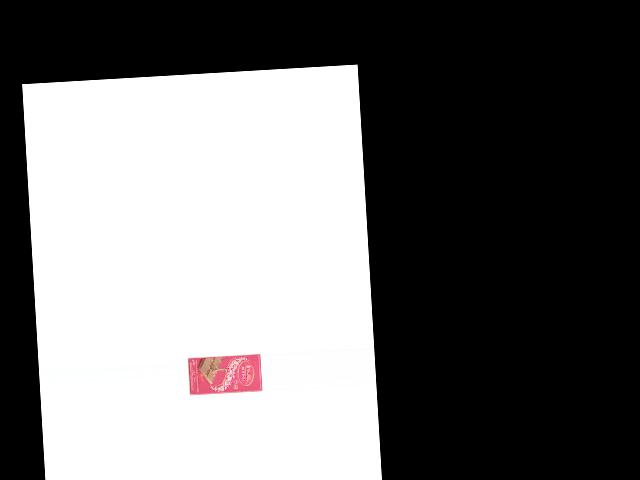chocolate: (188, 350, 262, 396)
